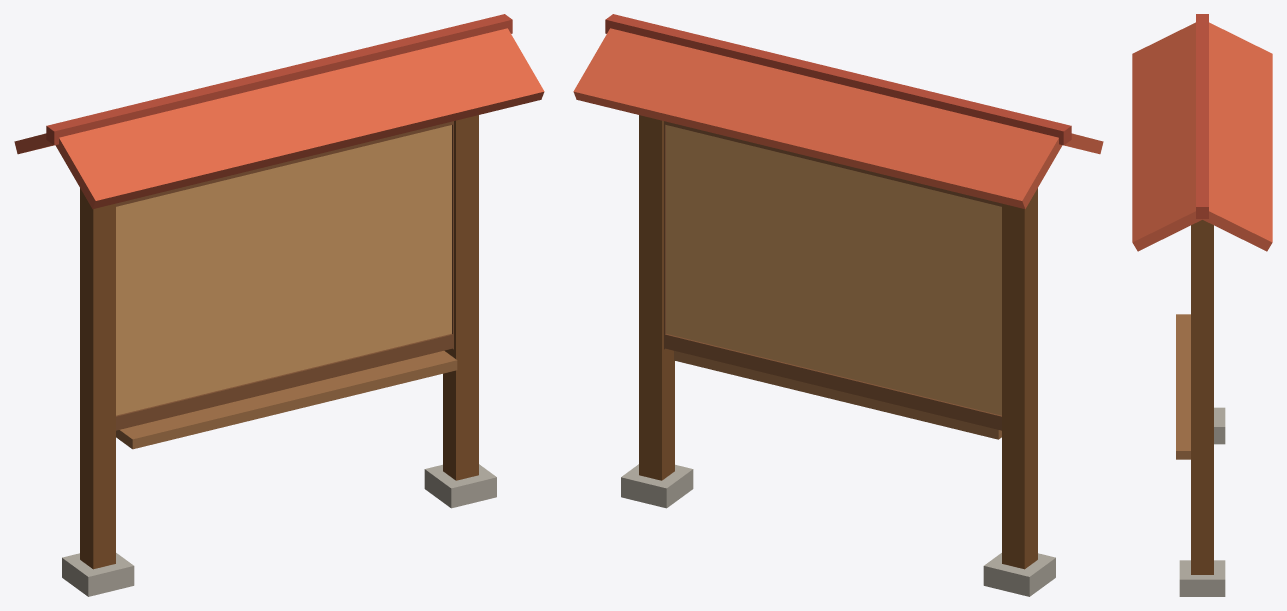
Rendered from bang-tin.glb.
3 renders of one model, left to right at view 1: azimuth 30°, elevation 25°; view 2: azimuth 150°, elevation 25°; view 3: azimuth 270°, elevation 25°, orthographic. The views are drawn at different scales.
Visible parts, largest first — view 1: bang-tin-2, bang-tin-6, bang-tin-0, bang-tin-4, bang-tin-7, bang-tin-3, bang-tin-1; view 2: bang-tin-2, bang-tin-5, bang-tin-0, bang-tin-7, bang-tin-3, bang-tin-1, bang-tin-4; view 3: bang-tin-5, bang-tin-6, bang-tin-0, bang-tin-7, bang-tin-4, bang-tin-1.
Boxes of the visible parts, x1,y1,x2,y2 form: bang-tin-2: (116,125,451,415); bang-tin-6: (55,28,544,209); bang-tin-0: (80,115,478,569); bang-tin-4: (116,351,457,449); bang-tin-7: (46,14,512,145); bang-tin-3: (116,121,453,430); bang-tin-1: (62,464,496,596); bang-tin-2: (666,125,1001,415); bang-tin-5: (573,28,1062,209); bang-tin-0: (639,115,1037,569); bang-tin-7: (605,14,1071,145); bang-tin-3: (664,121,1001,430); bang-tin-1: (621,464,1055,596); bang-tin-4: (674,351,1001,439); bang-tin-5: (1202,22,1272,251); bang-tin-6: (1132,22,1202,251); bang-tin-0: (1191,220,1213,574); bang-tin-7: (1196,14,1208,218); bang-tin-4: (1176,314,1190,459); bang-tin-1: (1179,407,1225,596).
Size of the model in its own units: 2.4 by 2.32 by 0.7374.
